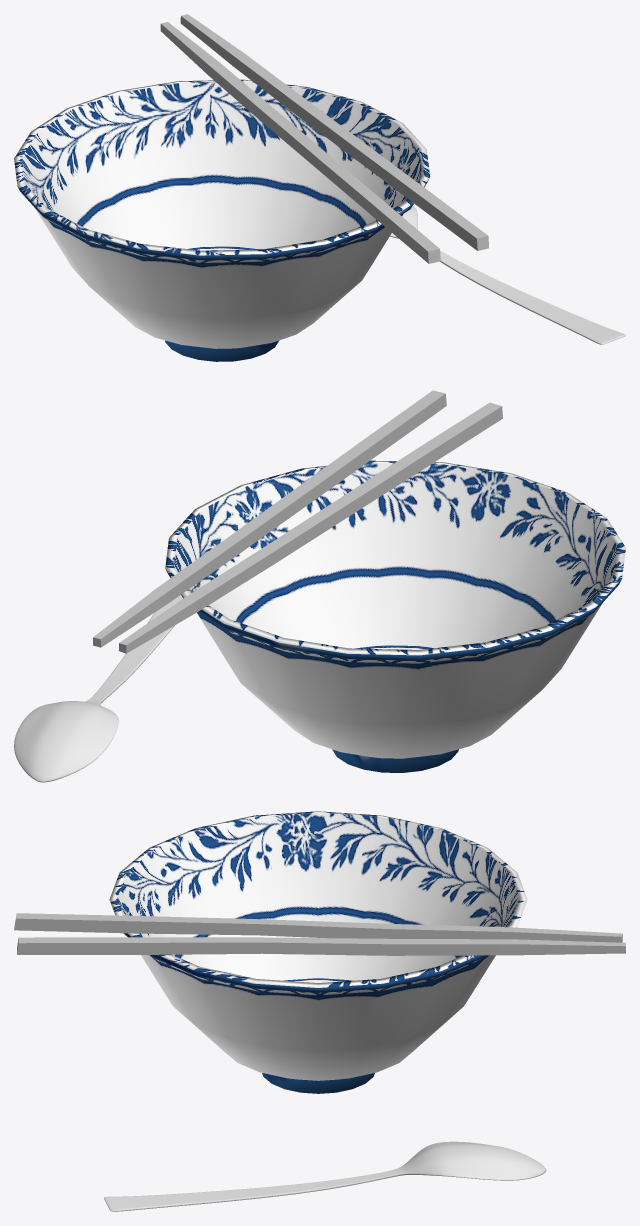
Rendered from Bowl + Spoon + Chopsticks.fbx.
3 views of the same model, one above another, from view 1: azimuth 30°, elevation 25°; view 2: azimuth 150°, elevation 25°; view 3: azimuth 270°, elevation 25° (orthographic). The views are drawn at different scales.
Parts seen in each view (by area): view 1: bowl, Cube.001, Spoon; view 2: bowl, Cube.001, Spoon; view 3: bowl, Cube.001, Spoon.
Part boxes in pixels (x1,y1,x2,y2): bowl: (14,79,430,361); Cube.001: (160,14,488,263); Spoon: (390,206,625,344); bowl: (165,460,625,772); Cube.001: (93,390,502,653); Spoon: (14,595,183,782); bowl: (109,811,527,1093); Cube.001: (14,913,625,955); Spoon: (104,1141,546,1211).
Size of the model in its own units: 27.5 by 10.05 by 30.28.
